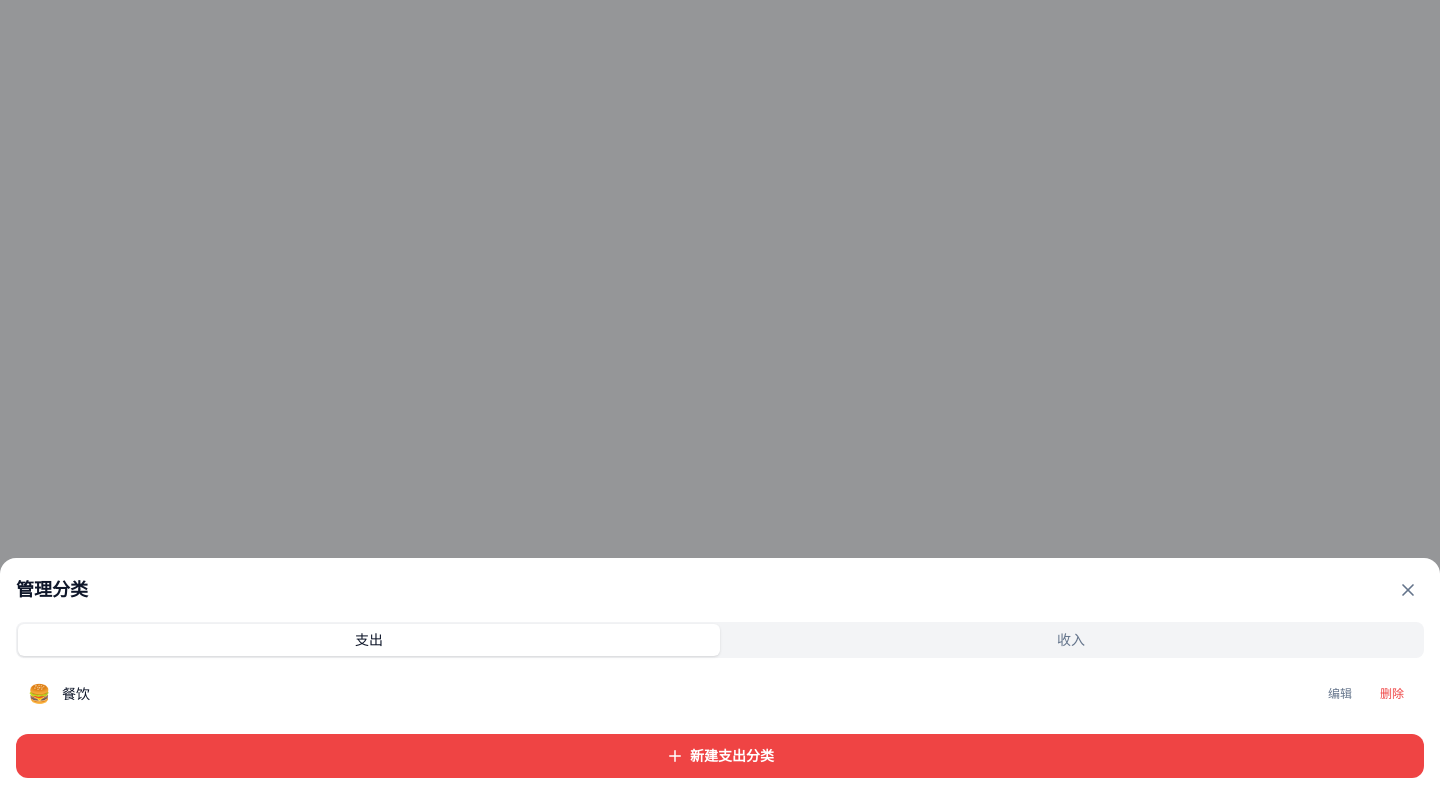
Scenario: CategorySheet › 切换支出/收入 Tab 渲染对应分类
What coordinates should you click on to do the following:
click the button "收入"
I would click on:
 (1071, 640)
Its box is top-left (720, 624), bottom-right (1422, 656).
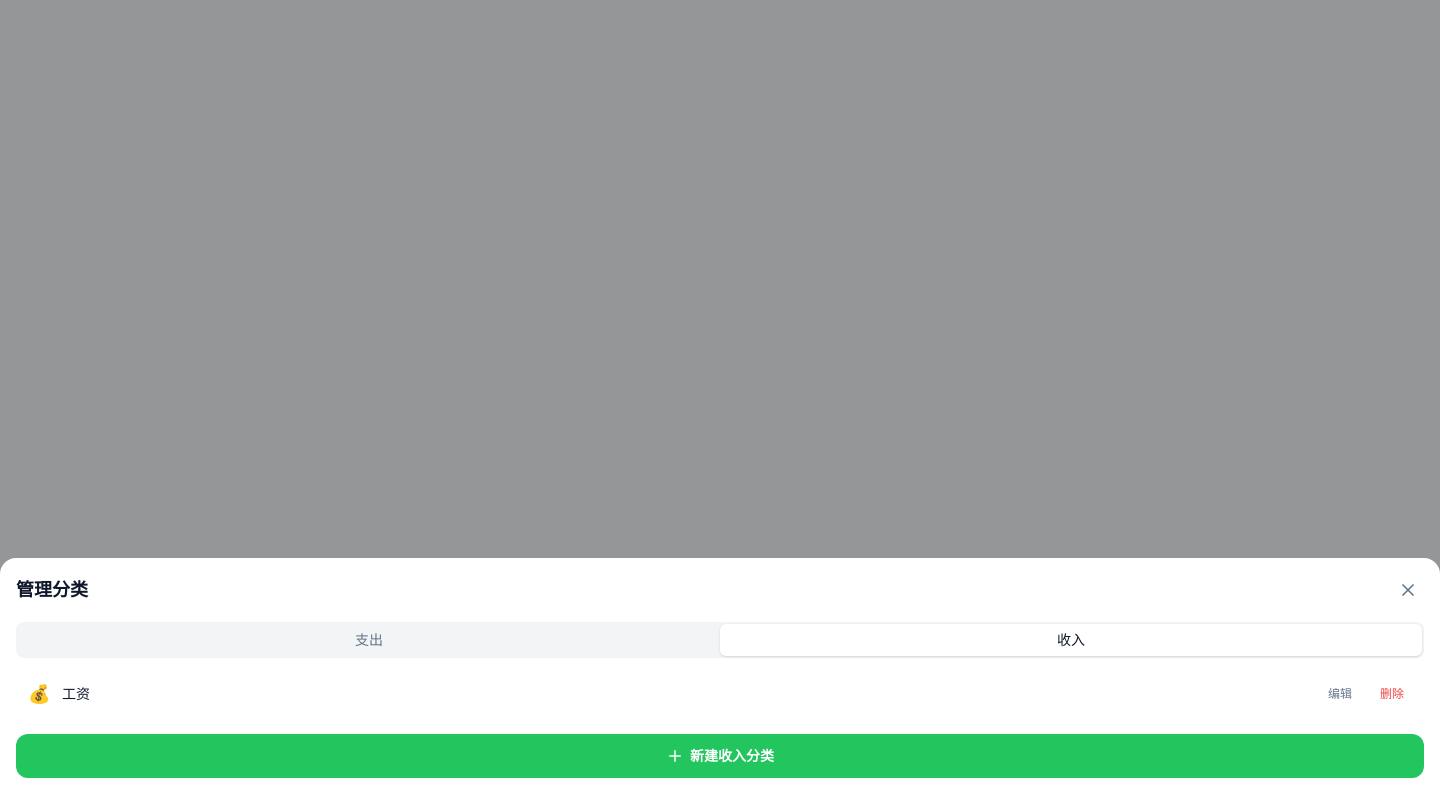
Result: the text "工资" is shown at top-left (62, 685), bottom-right (90, 702)
Result: the text "餐饮" is gone
